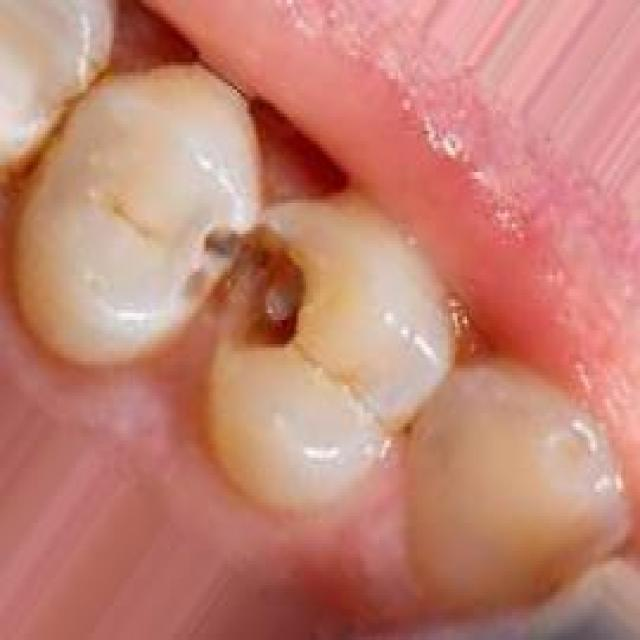caries: (162, 194, 321, 378)
